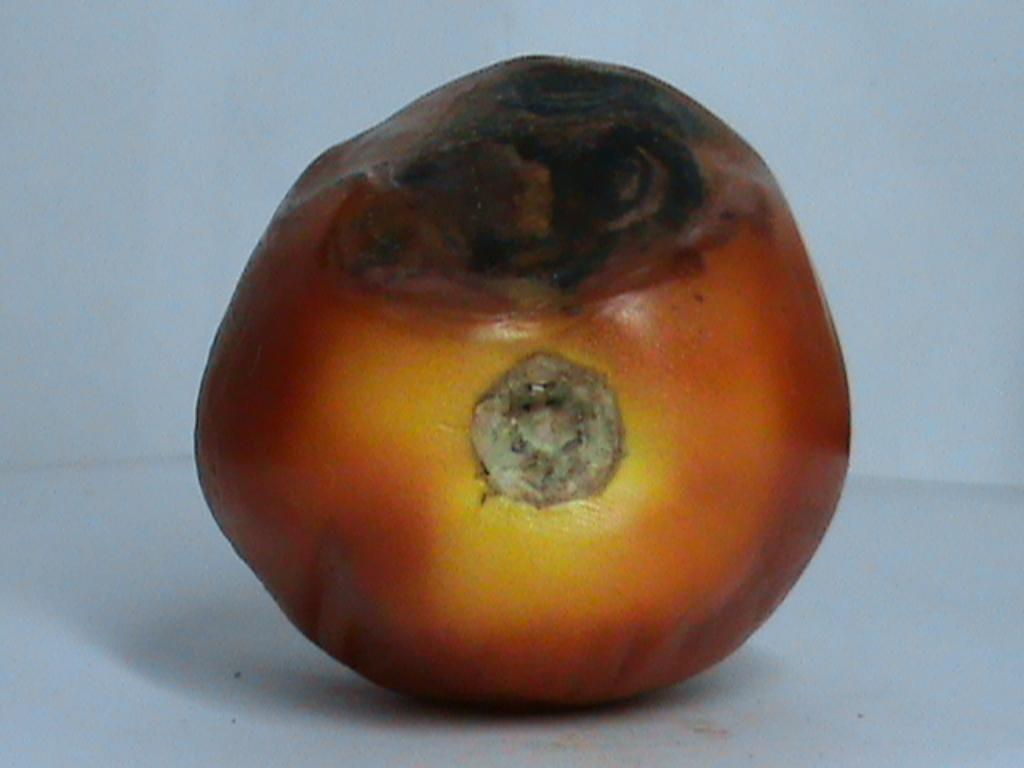bruise_discoloration: (195, 192, 848, 702), (275, 67, 499, 218)
rot_mold_decay: (331, 64, 709, 299)
tomato: (197, 59, 848, 704)
